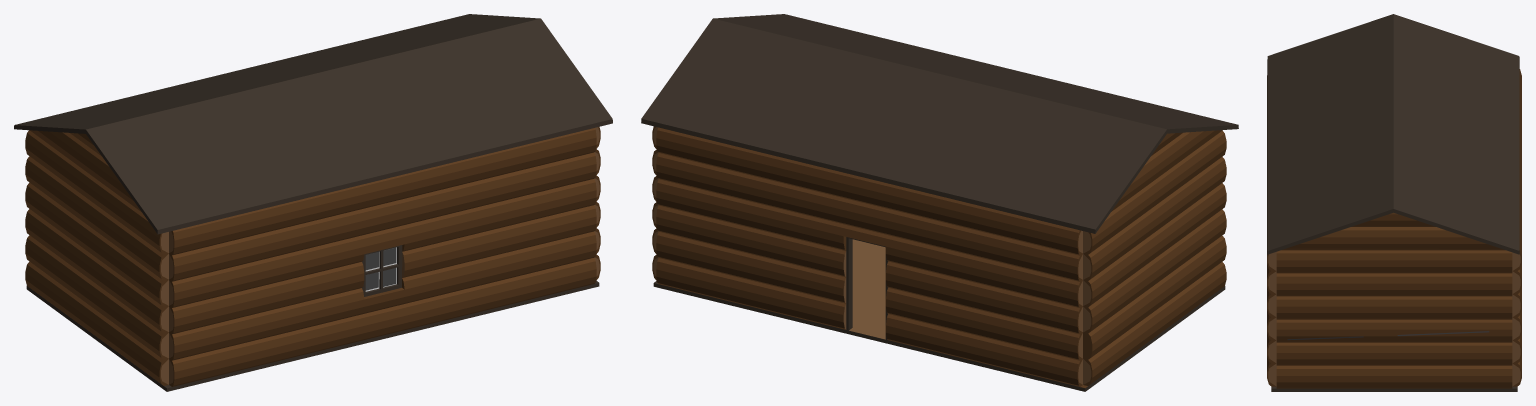
The model's file is cabin_01.FBX.
3 renders of one model, left to right at view 1: azimuth 30°, elevation 25°; view 2: azimuth 150°, elevation 25°; view 3: azimuth 270°, elevation 25°, orthographic. The views are drawn at different scales.
Parts seen in each view (by area): view 1: Box005; view 2: Box005; view 3: Box005.
Part boxes in pixels (x1,y1,x2,y2): Box005: (14, 14, 612, 391); Box005: (641, 14, 1238, 391); Box005: (1267, 14, 1521, 391).
Bounding box in the file's own units: 505 × 227 × 279.
Materials: 1 (1 with a texture image).
